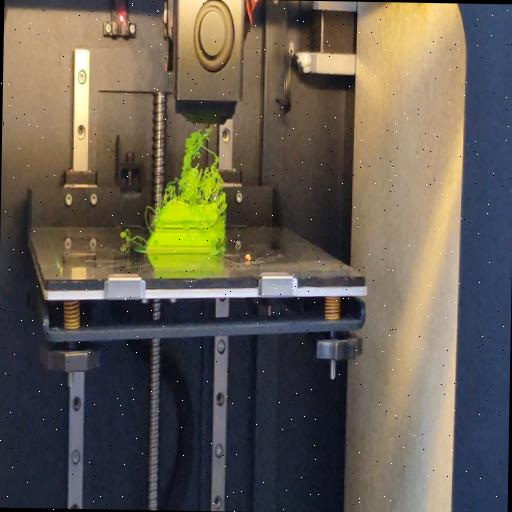spaghetti: (164, 127, 226, 209), (119, 228, 146, 247), (216, 212, 228, 250), (144, 205, 154, 233)
